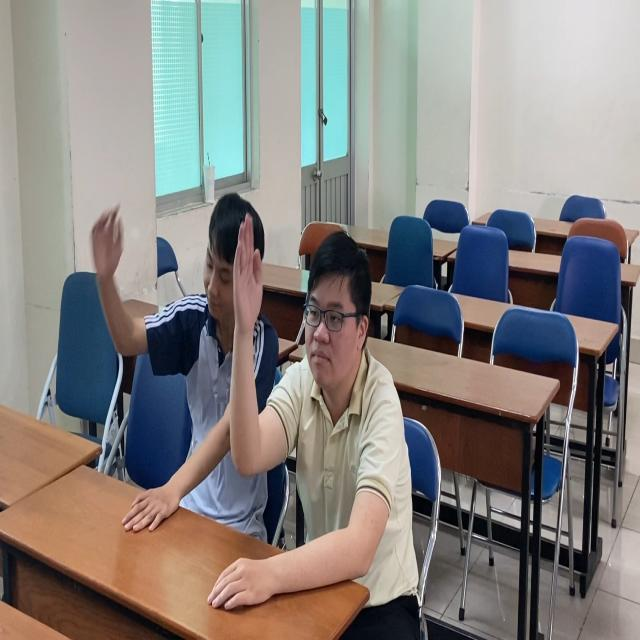raise_hand: (231, 209, 401, 565), (87, 189, 278, 431)
